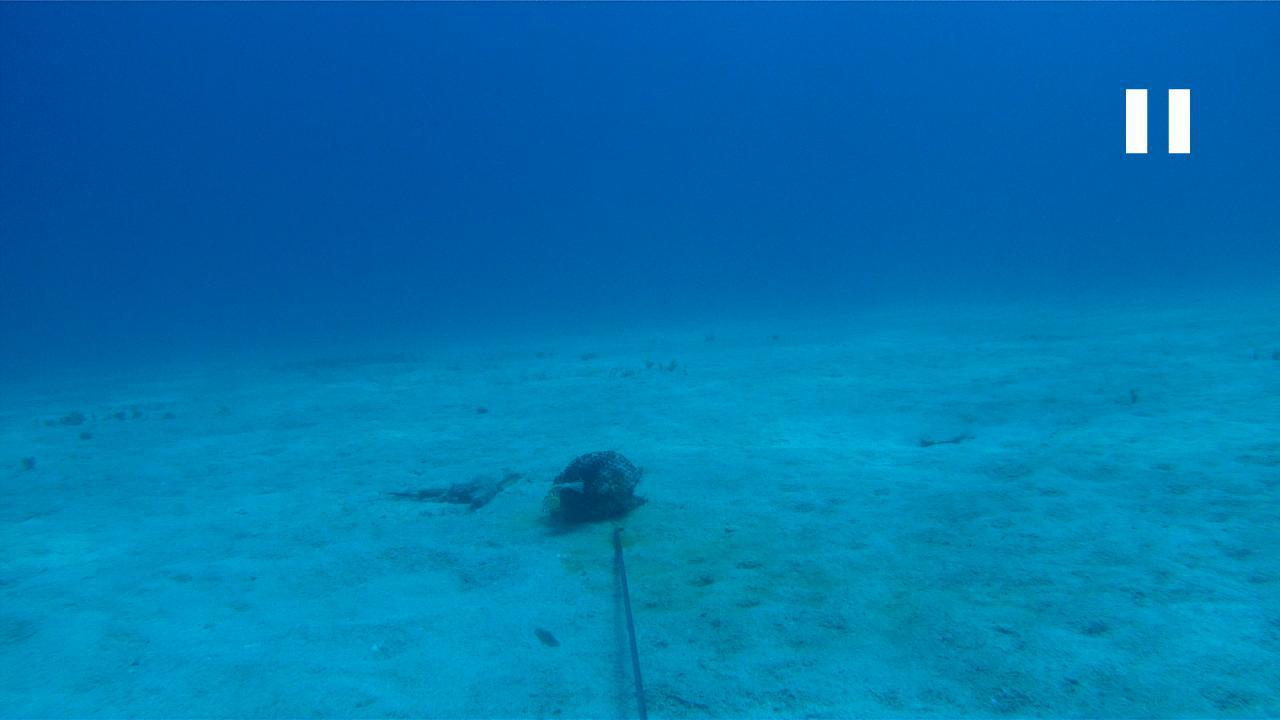bothus: (918, 423, 971, 450)
